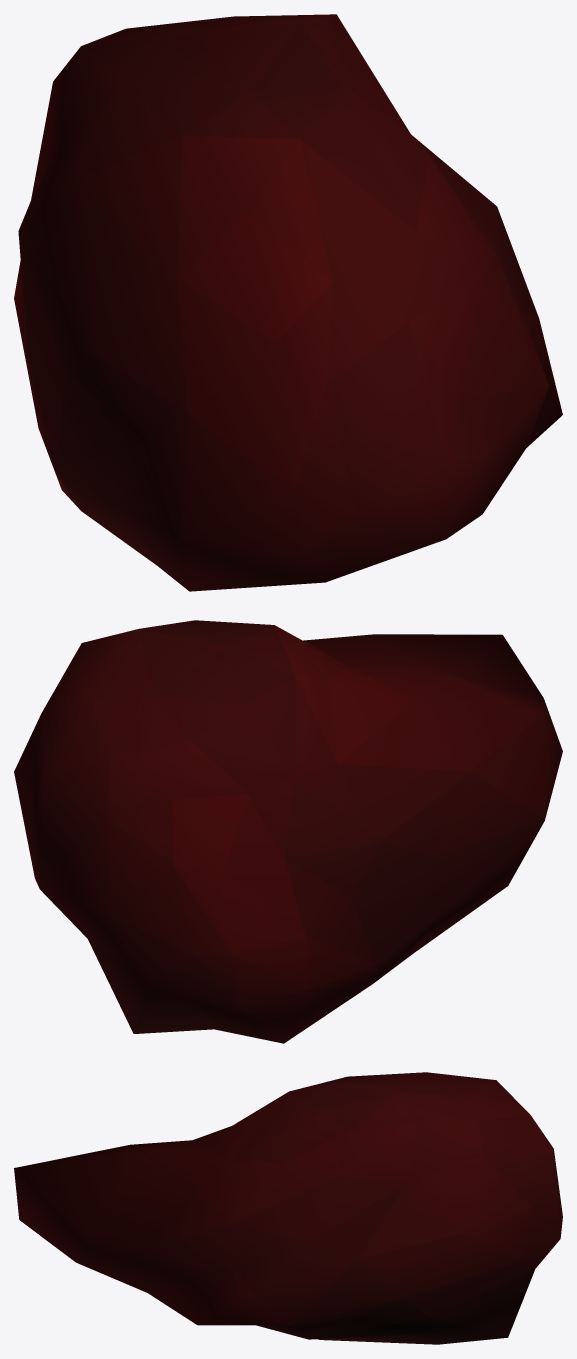
File: geology-rocks-asteroidlarge_v3.fbx
3 renders of one model, top to bottom at view 1: azimuth 30°, elevation 25°; view 2: azimuth 150°, elevation 25°; view 3: azimuth 270°, elevation 25°, orthographic. The views are drawn at different scales.
Parts seen in each view (by area): view 1: AsteroidLarge_v3; view 2: AsteroidLarge_v3; view 3: AsteroidLarge_v3.
Boxes of the visible parts, left/top/right/bottom form: AsteroidLarge_v3: left=14, top=14, right=562, bottom=591; AsteroidLarge_v3: left=14, top=620, right=562, bottom=1043; AsteroidLarge_v3: left=14, top=1072, right=562, bottom=1344.
Bounding box in the file's own units: 0.9114 × 0.8563 × 1.51.
